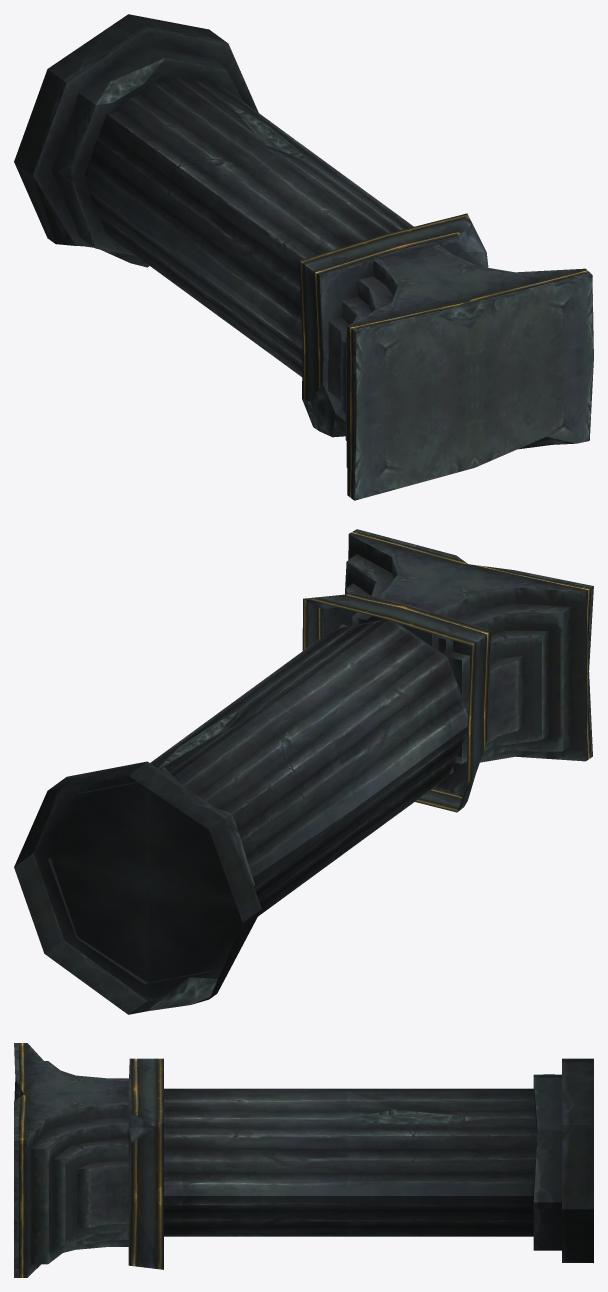
File: tanxian_fuben_257_zhuzi_01.obj
3 views of the same model, one above another, from view 1: azimuth 30°, elevation 25°; view 2: azimuth 150°, elevation 25°; view 3: azimuth 270°, elevation 25° (orthographic). The views are drawn at different scales.
Parts seen in each view (by area): view 1: tanxian_fuben_257_zhuzi_01; view 2: tanxian_fuben_257_zhuzi_01; view 3: tanxian_fuben_257_zhuzi_01.
Boxes of the visible parts, box(x1,y1,x2,y2) form: tanxian_fuben_257_zhuzi_01: box(14, 14, 593, 500); tanxian_fuben_257_zhuzi_01: box(14, 529, 593, 1014); tanxian_fuben_257_zhuzi_01: box(14, 1043, 593, 1277).
Bounding box in the file's own units: 95.72 × 91.66 × 240.
2 materials, 2 textured.
